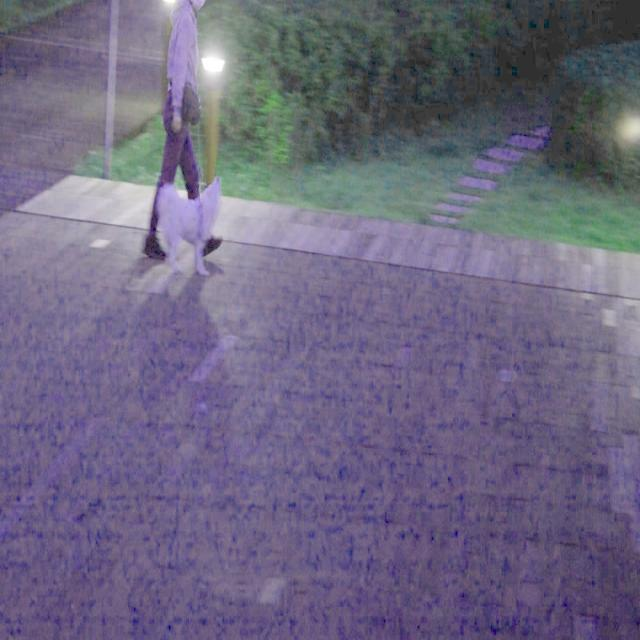Leashed_Dog: (157, 111, 221, 277)
